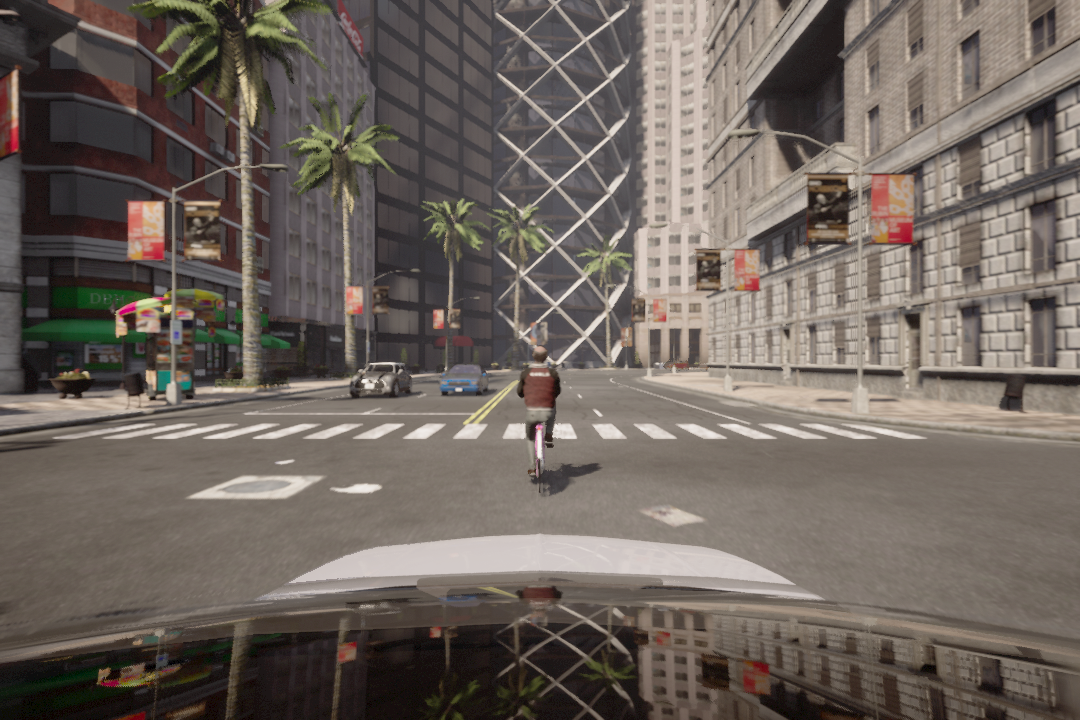walkside: (48, 411, 918, 447)
